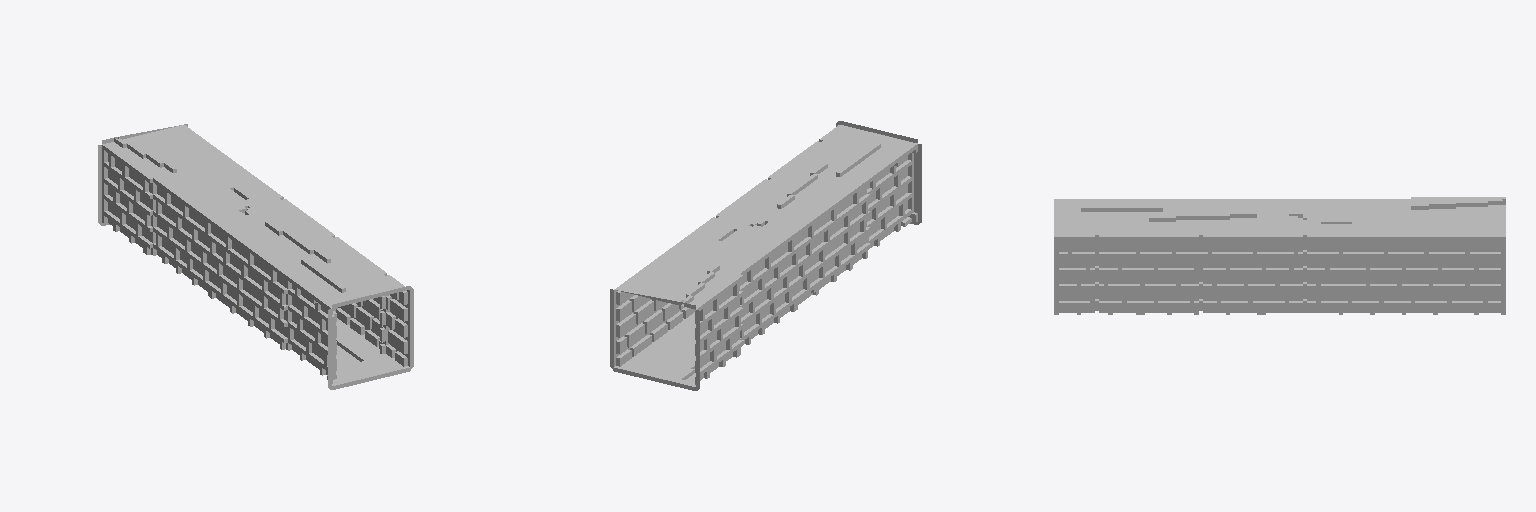
File: room_2.obj
3 views of the same model, side by side, from view 1: azimuth 30°, elevation 25°; view 2: azimuth 150°, elevation 25°; view 3: azimuth 270°, elevation 25° (orthographic).
Visible parts, largest first — view 1: room_3; view 2: room_3; view 3: room_3.
Part boxes in pixels (bbox=[...]): room_3: bbox=[98, 124, 413, 389]; room_3: bbox=[610, 121, 921, 390]; room_3: bbox=[1054, 197, 1505, 314].
Bounding box in the file's own units: 2.3 × 2.1 × 10.